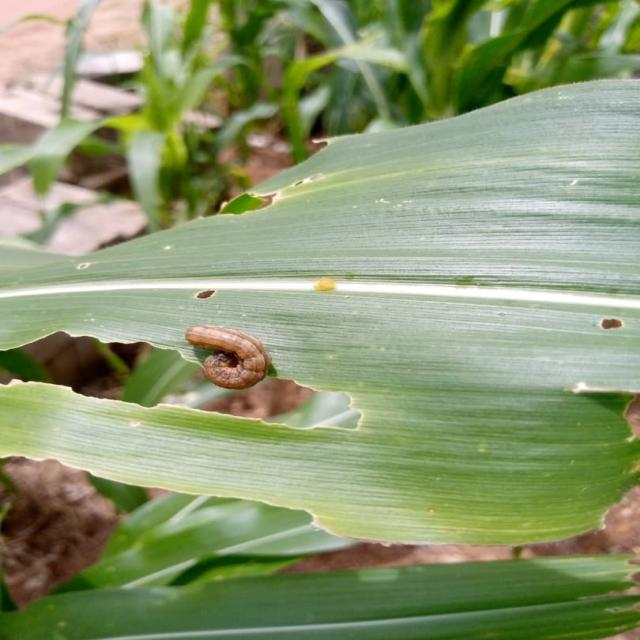yellow-stem-borer-larva: (167, 307, 282, 397)
